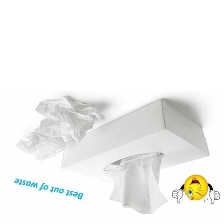book: (55, 94, 215, 182)
tissue: (12, 92, 112, 166), (104, 148, 172, 219)
